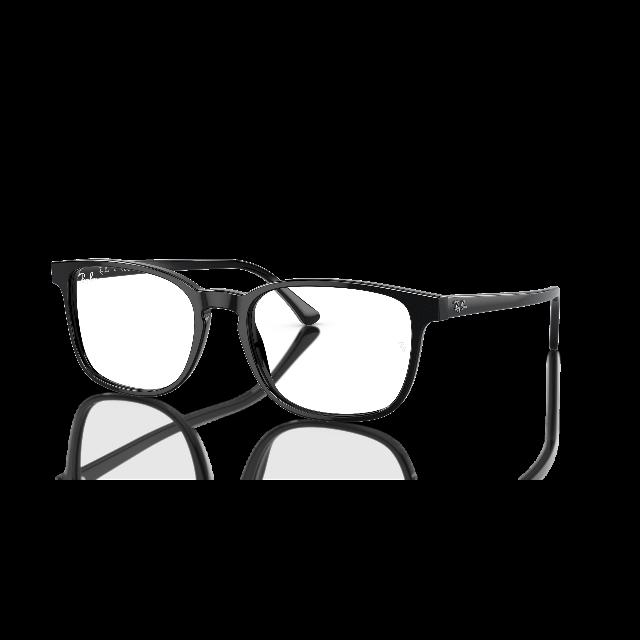glasses: (48, 247, 568, 427)
